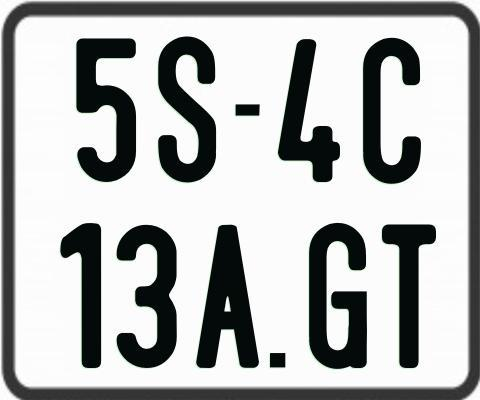1: (58, 220, 102, 370)
3: (117, 223, 182, 371)
4: (278, 36, 341, 184)
5: (75, 36, 139, 181)
A: (194, 225, 262, 371)
C: (362, 38, 422, 185)
G: (306, 221, 368, 372)
S: (158, 33, 219, 180)
T: (379, 222, 437, 371)
